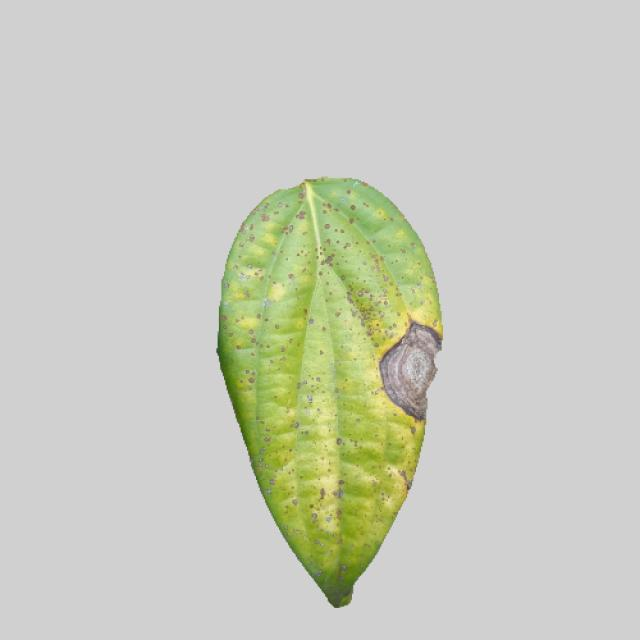leaf-blight: (208, 174, 446, 607)
